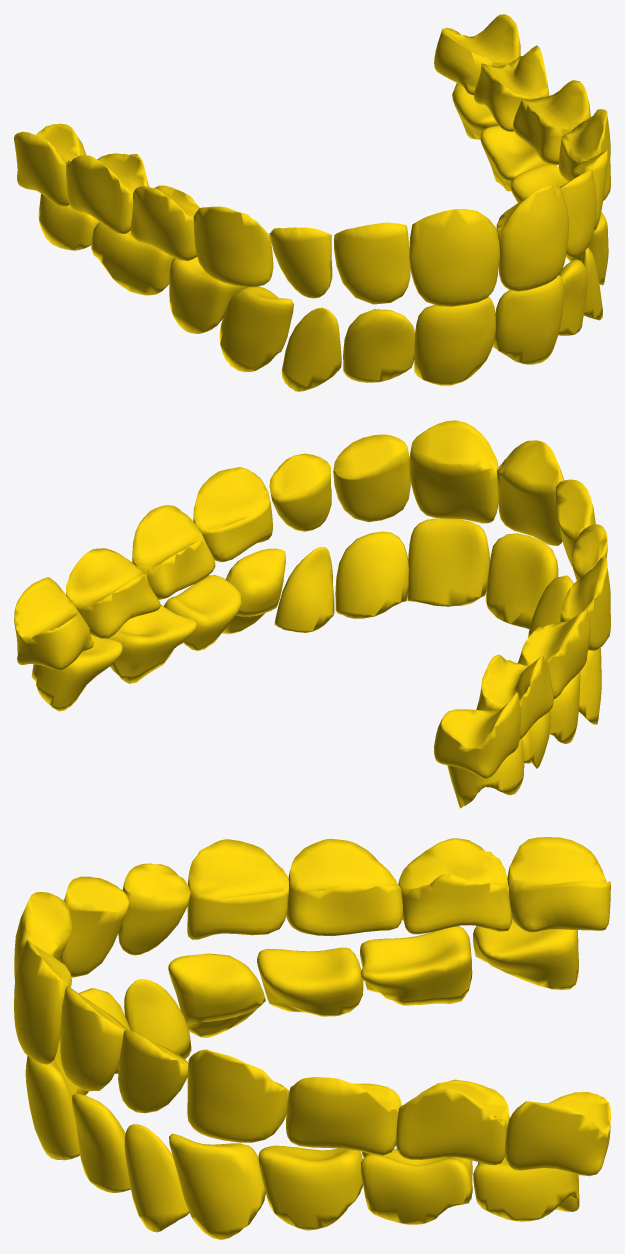
The model's file is grillz3.glb.
3 views of the same model, one above another, from view 1: azimuth 30°, elevation 25°; view 2: azimuth 150°, elevation 25°; view 3: azimuth 270°, elevation 25° (orthographic). The views are drawn at different scales.
Visible parts, largest first — view 1: Low_Teeth25_Low_Teeth25_0.003, Low_Teeth25_Low_Teeth25_0.002, Low_Teeth25_Low_Teeth25_0.001, Low_Teeth25_Low_Teeth25_0; view 2: Low_Teeth25_Low_Teeth25_0.003, Low_Teeth25_Low_Teeth25_0.002, Low_Teeth25_Low_Teeth25_0.001, Low_Teeth25_Low_Teeth25_0; view 3: Low_Teeth25_Low_Teeth25_0.003, Low_Teeth25_Low_Teeth25_0, Low_Teeth25_Low_Teeth25_0.002, Low_Teeth25_Low_Teeth25_0.001.
Boxes of the visible parts, x1,y1,x2,y2 form: Low_Teeth25_Low_Teeth25_0.003: (14,14,610,287); Low_Teeth25_Low_Teeth25_0.002: (269,150,607,306); Low_Teeth25_Low_Teeth25_0.001: (281,247,602,391); Low_Teeth25_Low_Teeth25_0: (38,83,608,372); Low_Teeth25_Low_Teeth25_0.003: (14,467,610,778); Low_Teeth25_Low_Teeth25_0.002: (269,420,607,580); Low_Teeth25_Low_Teeth25_0.001: (274,518,573,637); Low_Teeth25_Low_Teeth25_0: (31,548,601,808); Low_Teeth25_Low_Teeth25_0.003: (187,837,610,1176); Low_Teeth25_Low_Teeth25_0: (168,921,579,1239); Low_Teeth25_Low_Teeth25_0.002: (14,863,190,1113); Low_Teeth25_Low_Teeth25_0.001: (25,979,191,1232).
Bounding box in the file's own units: 14.43 × 5.6 × 13.46.
